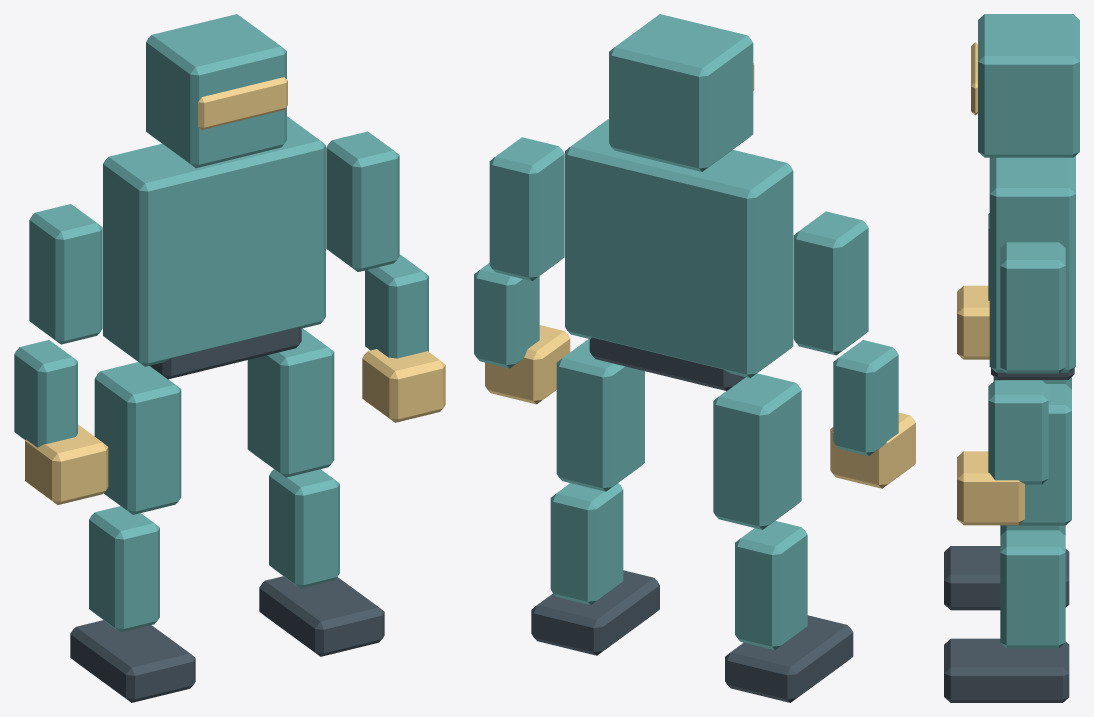
File: practice-scout.glb
The picture shows the model from 3 angles, left to right: view 1: azimuth 30°, elevation 25°; view 2: azimuth 150°, elevation 25°; view 3: azimuth 270°, elevation 25°; orthographic projection. The views are drawn at different scales.
Visible parts, largest first — view 1: Chest, Helmet, Thigh, Thigh.001, Upper_arm, Upper_arm.001, Shin, Shin.001, Boot, Boot.001, Forearm, Forearm.001 (+4 smaller); view 2: Chest, Helmet, Thigh, Thigh.001, Upper_arm, Upper_arm.001, Shin, Shin.001, Boot, Forearm, Boot.001, Forearm.001 (+3 smaller); view 3: Helmet, Chest, Upper_arm.001, Shin.001, Boot.001, Forearm.001, Thigh.001, Fist.001, Boot, Fist, Waist, Visor (+1 smaller).
Part boxes in pixels (box(x1,y1,x2,y2)): Chest: box(103, 116, 325, 366); Helmet: box(146, 14, 286, 168); Thigh: box(94, 362, 181, 514); Thigh.001: box(247, 328, 334, 477); Upper_arm: box(29, 204, 102, 344); Upper_arm.001: box(326, 131, 399, 271); Shin: box(89, 506, 159, 632); Shin.001: box(269, 469, 339, 588); Boot: box(70, 620, 195, 702); Boot.001: box(259, 576, 384, 656); Forearm: box(14, 340, 77, 447); Forearm.001: box(365, 254, 428, 358); Chest: box(565, 119, 793, 378); Helmet: box(609, 14, 753, 171); Thigh: box(713, 373, 801, 529); Thigh.001: box(556, 339, 644, 491); Upper_arm: box(793, 211, 868, 355); Upper_arm.001: box(489, 137, 564, 280); Shin: box(735, 521, 807, 649); Shin.001: box(550, 483, 623, 605); Boot: box(725, 615, 853, 702); Forearm: box(833, 340, 898, 455); Boot.001: box(531, 570, 659, 655); Forearm.001: box(474, 263, 539, 368); Helmet: box(978, 14, 1079, 157); Chest: box(989, 156, 1075, 372); Upper_arm.001: box(1000, 242, 1065, 373); Shin.001: box(1000, 530, 1065, 648); Boot.001: box(944, 638, 1069, 702); Forearm.001: box(988, 380, 1048, 484); Thigh.001: box(1000, 384, 1071, 525); Fist.001: box(957, 451, 1024, 525); Boot: box(944, 546, 1069, 610); Fist: box(957, 285, 989, 359); Waist: box(991, 368, 1074, 379); Visor: box(971, 42, 977, 115).
Size of the model in its own units: 1.75 by 2.56 by 0.52.
